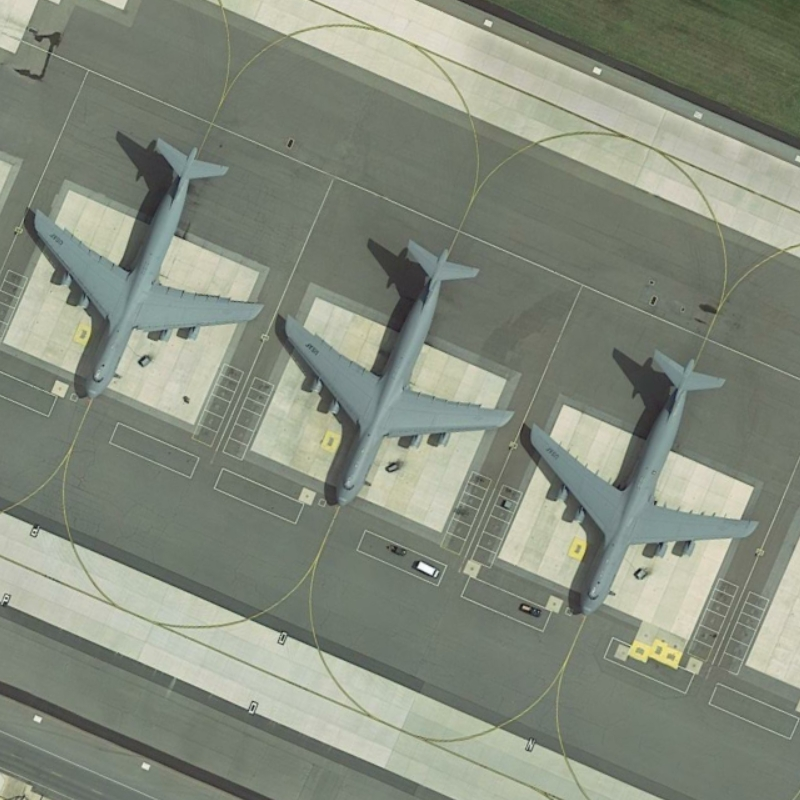A4: (275, 228, 522, 522), (521, 342, 766, 620), (26, 131, 270, 405)
